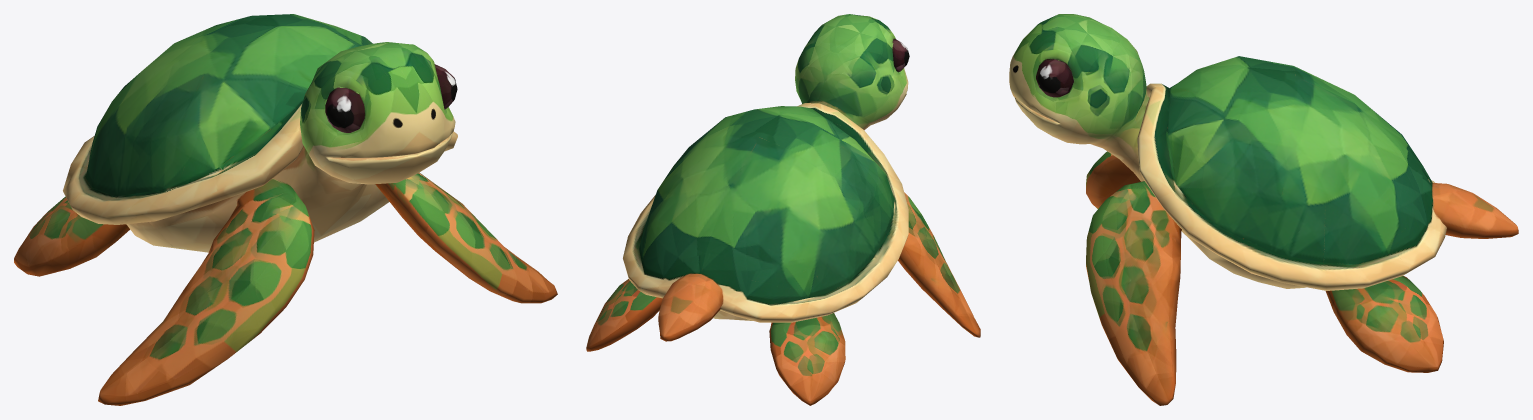
File: Meshy_AI_Emerald_Sea_Turtle_0919193458_texture.glb
3 views of the same model, side by side, from view 1: azimuth 30°, elevation 25°; view 2: azimuth 150°, elevation 25°; view 3: azimuth 270°, elevation 25° (orthographic). The views are drawn at different scales.
Size of the model in its own units: 0.8848 by 0.6289 by 1.
1 material, 1 textured.
